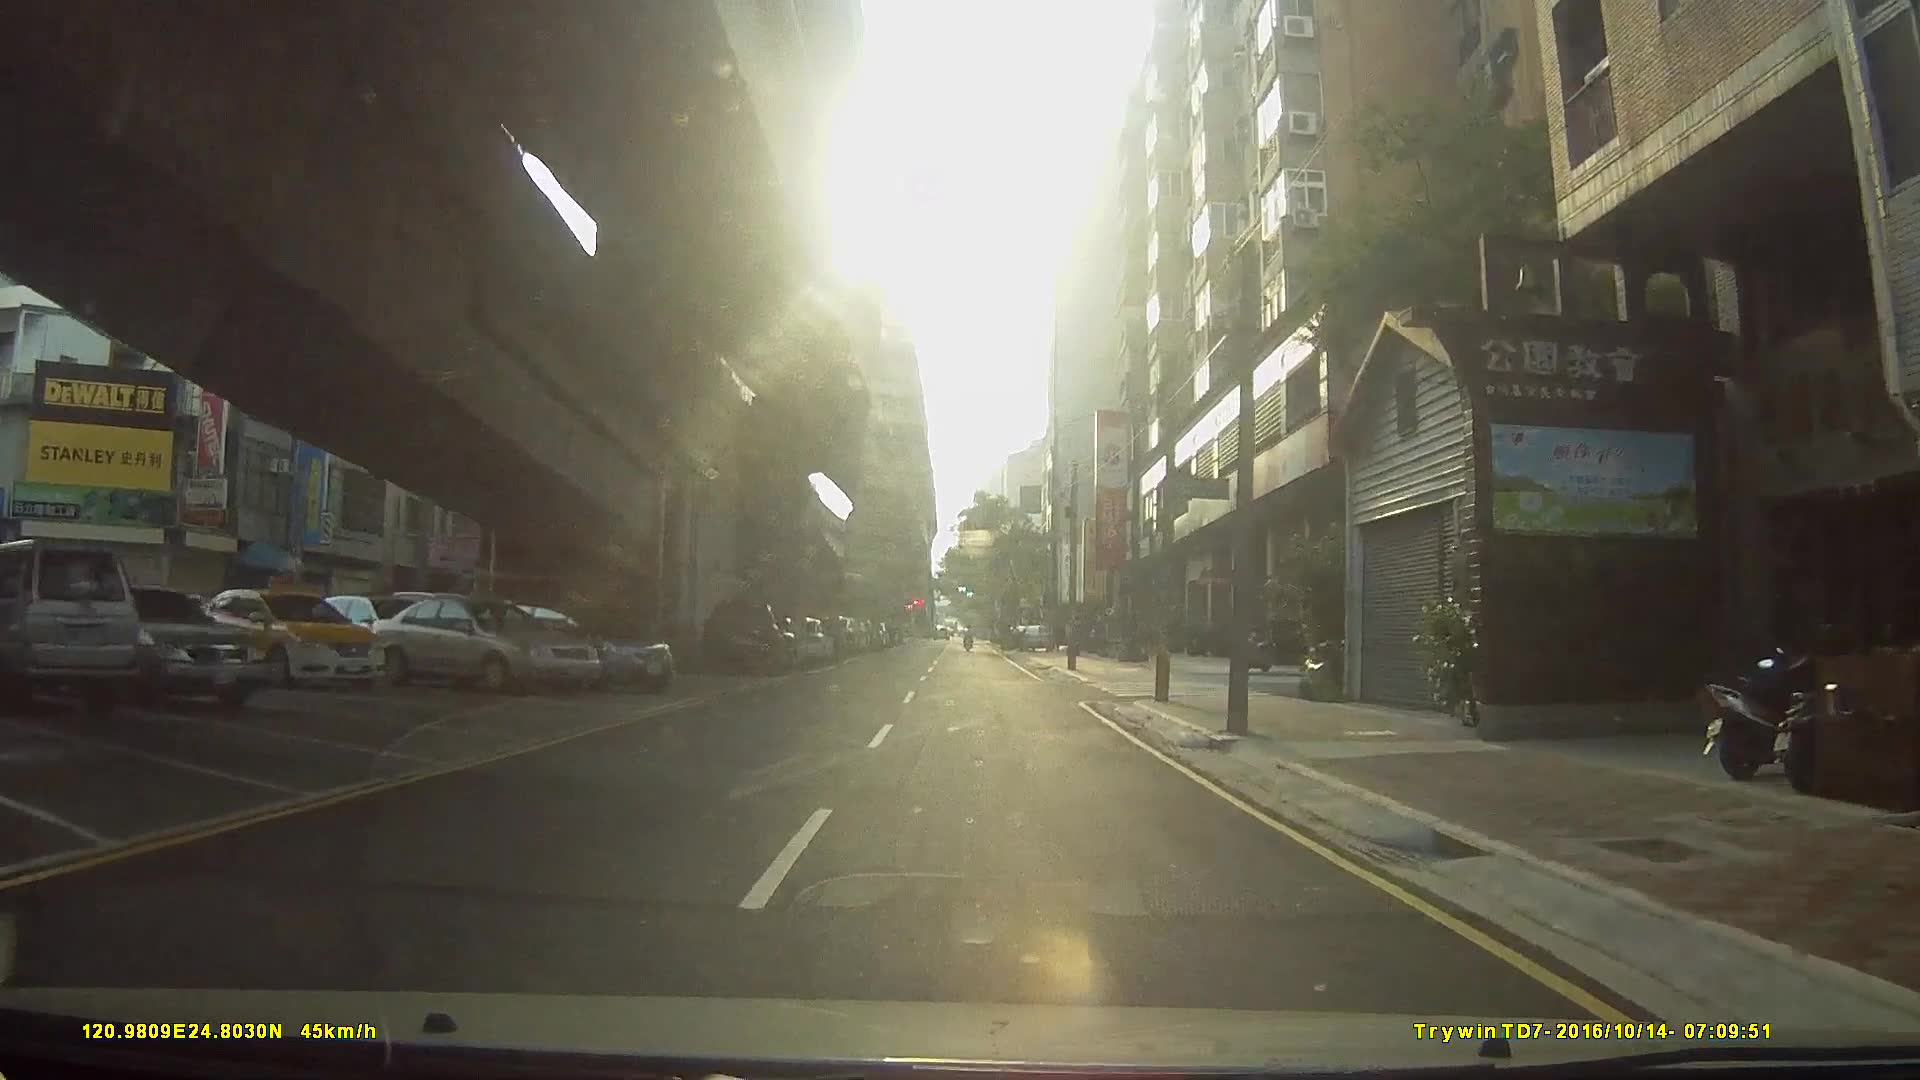vehicle: (51, 585, 262, 711), (0, 537, 142, 713), (356, 595, 595, 696), (442, 597, 673, 696), (195, 589, 381, 691), (696, 597, 789, 676)
